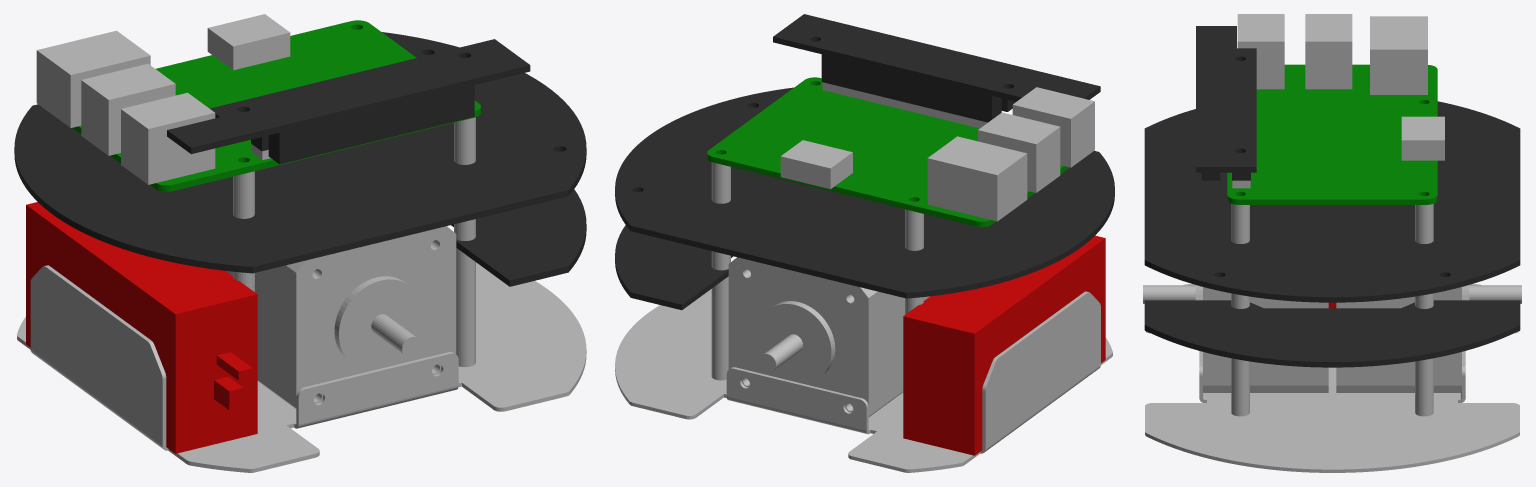
File: RasPiMouse_body.dae
3 views of the same model, side by side, from view 1: azimuth 30°, elevation 25°; view 2: azimuth 150°, elevation 25°; view 3: azimuth 270°, elevation 25° (orthographic). The views are drawn at different scales.
Visible parts, largest first — view 1: RasPiMouse_body_gray, RasPiMouse_base_black, RasPiMouse_body_red, RasPiMouse_body_green; view 2: RasPiMouse_body_gray, RasPiMouse_base_black, RasPiMouse_body_red, RasPiMouse_body_green; view 3: RasPiMouse_base_black, RasPiMouse_body_gray, RasPiMouse_body_green.
Part boxes in pixels (bbox=[...]): RasPiMouse_body_gray: bbox=[17, 14, 586, 472]; RasPiMouse_base_black: bbox=[14, 32, 586, 286]; RasPiMouse_body_red: bbox=[26, 202, 257, 453]; RasPiMouse_body_green: bbox=[72, 20, 480, 191]; RasPiMouse_body_gray: bbox=[615, 82, 1112, 472]; RasPiMouse_base_black: bbox=[615, 14, 1114, 310]; RasPiMouse_body_red: bbox=[903, 235, 1105, 455]; RasPiMouse_body_green: bbox=[707, 77, 1069, 227]; RasPiMouse_base_black: bbox=[1144, 26, 1520, 367]; RasPiMouse_body_gray: bbox=[1143, 14, 1521, 472]; RasPiMouse_body_green: bbox=[1227, 64, 1437, 204].
Bounding box in the file's own units: 0.13 × 0.101 × 0.0793.
